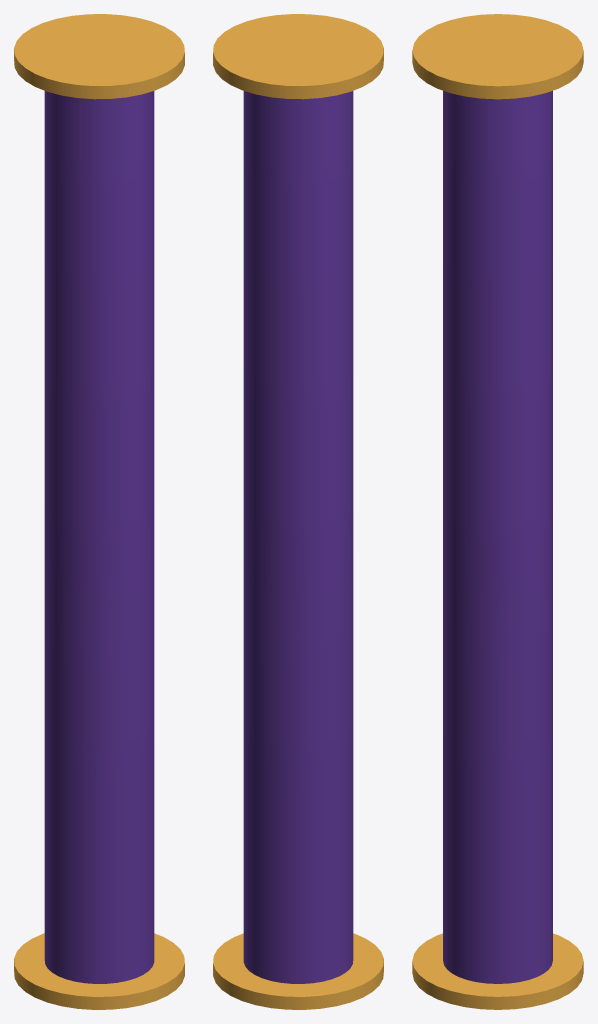
File: pipe1.fbx
3 renders of one model, left to right at view 1: azimuth 30°, elevation 25°; view 2: azimuth 150°, elevation 25°; view 3: azimuth 270°, elevation 25°, orthographic.
Visible parts, largest first — view 1: pipe1; view 2: pipe1; view 3: pipe1.
Boxes of the visible parts, left/top/right/bottom form: pipe1: left=14, top=14, right=184, bottom=1009; pipe1: left=213, top=14, right=383, bottom=1009; pipe1: left=412, top=14, right=583, bottom=1009.
Bounding box in the file's own units: 1.65 × 1.65 × 9.83.
2 materials, 1 textured.
